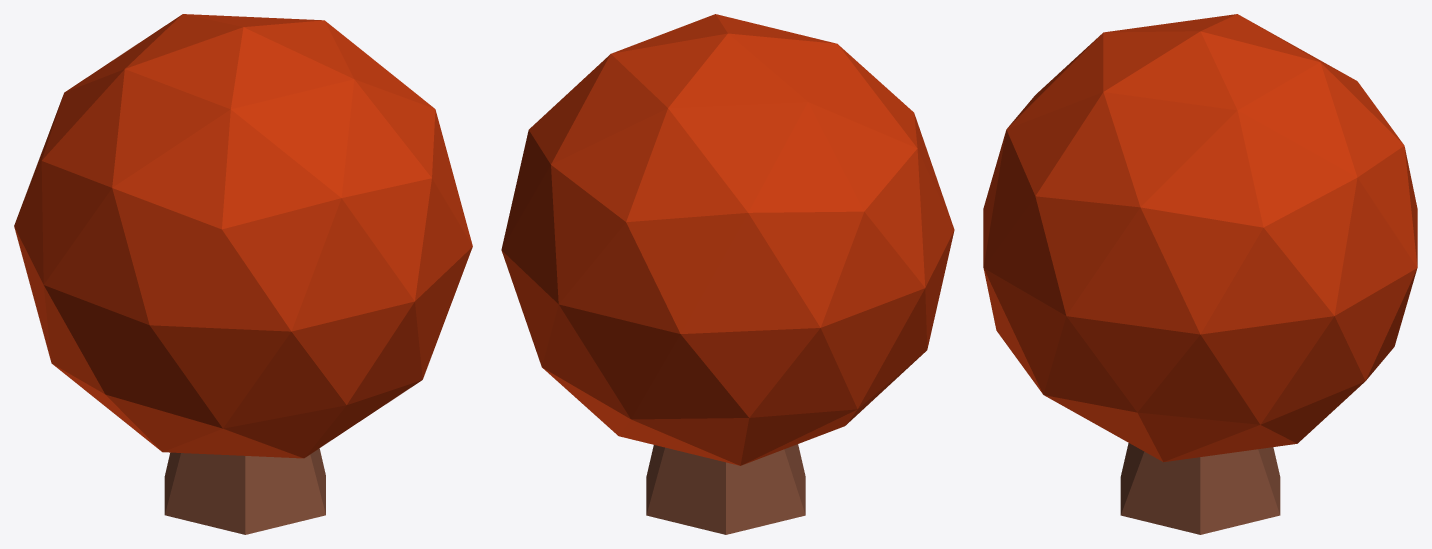
Rendered from Bush_2_summer_red_mat.fbx.
The picture shows the model from 3 angles, left to right: view 1: azimuth 30°, elevation 25°; view 2: azimuth 150°, elevation 25°; view 3: azimuth 270°, elevation 25°; orthographic projection.
Parts seen in each view (by area): view 1: Bush_2_summer_red_mat; view 2: Bush_2_summer_red_mat; view 3: Bush_2_summer_red_mat.
Part boxes in pixels (x1,y1,x2,y2): Bush_2_summer_red_mat: [14, 14, 472, 534]; Bush_2_summer_red_mat: [501, 14, 954, 534]; Bush_2_summer_red_mat: [983, 14, 1417, 534].
Size of the model in its own units: 35.19 by 39.46 by 33.47.
